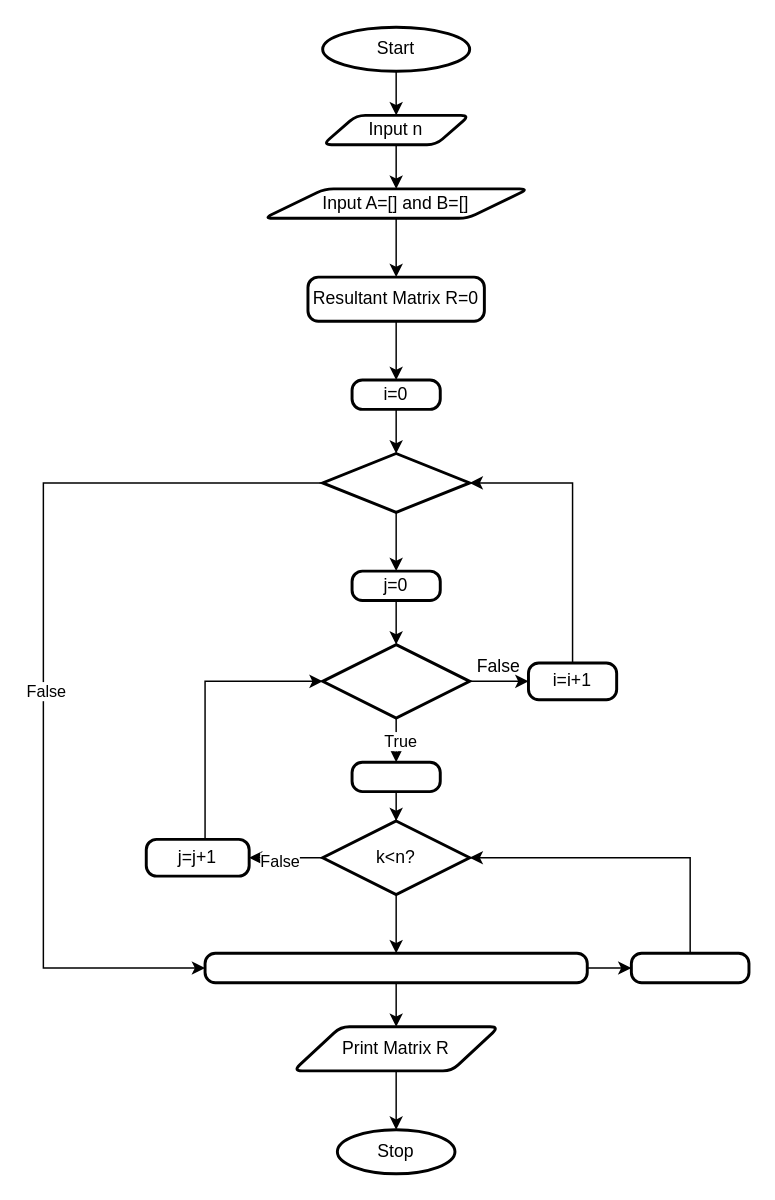
Image size: 775x1200. Some labels were removed from this diagram. The shapes that lost their labels are listed below. From the top down, each one's centre as x and y in pixels, then its label:
At [395,482]: "i<n?".
At [395,680]: "j<n".
At [395,776]: "k=0".
At [395,967]: "R[i][j]=R[i][j]+A[i][k]*B[k][j]".
At [689,967]: "k=k+1".
